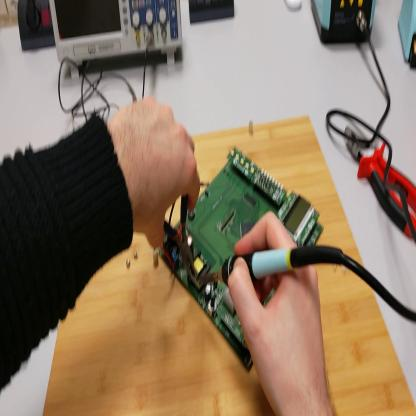hand: (228, 209, 332, 404), (105, 99, 201, 252)
low voltage board: (158, 142, 325, 366)
oscilloscope: (50, 1, 183, 80)
pliers: (344, 117, 416, 240), (164, 196, 197, 282)
socket: (18, 3, 57, 53)
welder base: (397, 3, 416, 68)
welder probe tip: (199, 241, 340, 284)
welder station: (313, 1, 377, 51)
working area: (44, 117, 416, 416)
